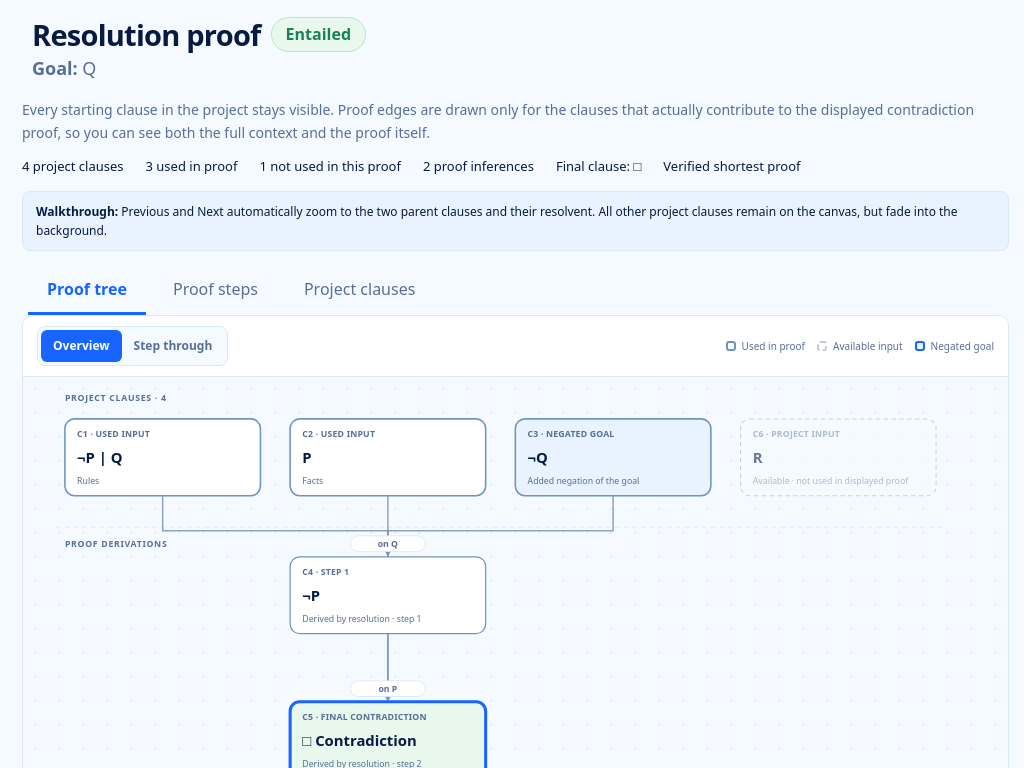
Test case: ResolutionView › shows the project input clauses and identifies the negated goal
What coordinates should you click on to do the following:
click the button "Project clauses"
I would click on:
 (360, 292)
Its box is [285,269,434,315].
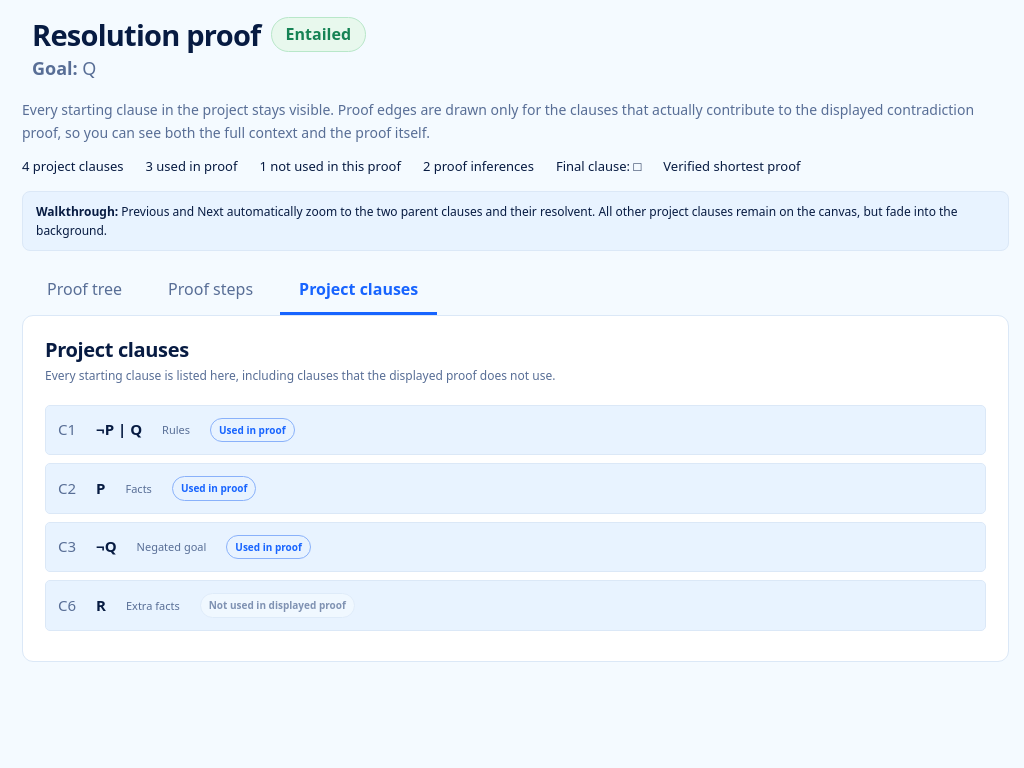
Expected: the text "Negated goal" is shown, [137,539,206,555]
Expected: the heading "Project clauses" is shown, [45,336,189,363]
Expected: the text "¬P | Q" is shown, [96,419,142,441]
